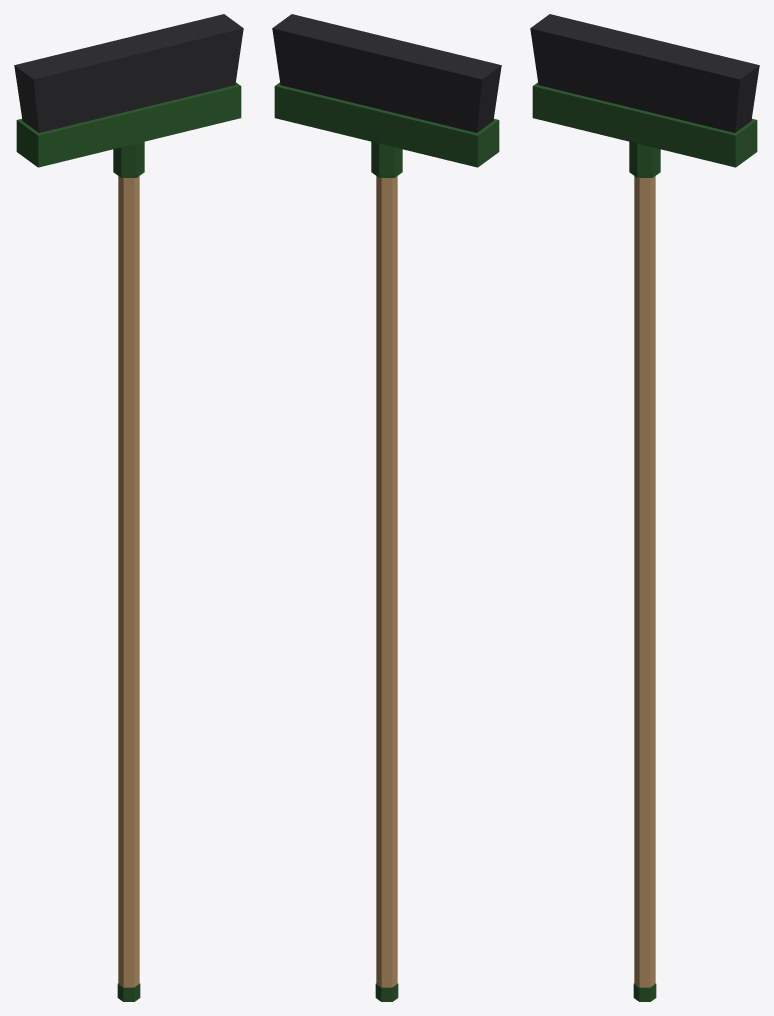
File: broom.glb
3 views of the same model, side by side, from view 1: azimuth 30°, elevation 25°; view 2: azimuth 150°, elevation 25°; view 3: azimuth 330°, elevation 25° (orthographic).
Parts seen in each view (by area): view 1: broom; view 2: broom; view 3: broom.
Boxes of the visible parts, x1=… form: broom: x1=14, y1=14, x2=243, y2=1001; broom: x1=272, y1=14, x2=501, y2=1001; broom: x1=530, y1=14, x2=759, y2=1001.
Bounding box in the file's own units: 0.31 × 1.34 × 0.055.
